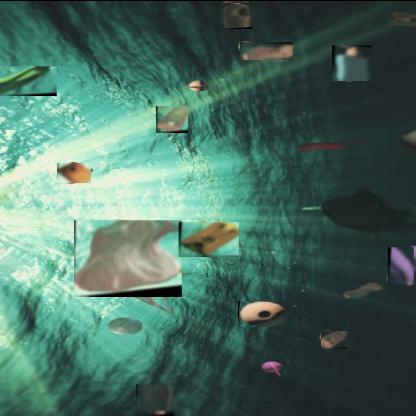bottle: (0, 64, 58, 95), (240, 40, 294, 59), (156, 104, 189, 132), (220, 1, 253, 28), (321, 329, 349, 348)
waste: (74, 218, 183, 296), (179, 220, 240, 256), (332, 43, 373, 80), (238, 299, 286, 326), (136, 382, 175, 415), (388, 245, 415, 286), (57, 161, 92, 182)
